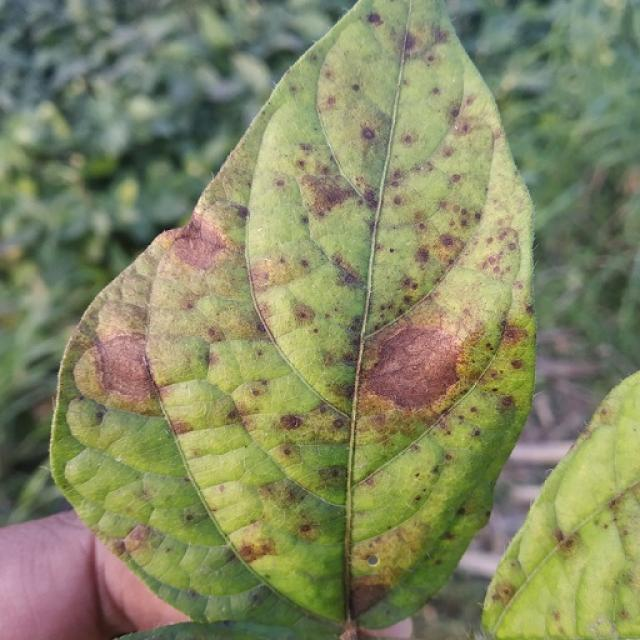Anthracnose: (73, 212, 268, 418), (315, 7, 410, 208), (371, 4, 461, 185), (406, 86, 496, 263), (363, 300, 474, 419), (412, 263, 507, 368), (363, 320, 464, 411), (96, 339, 186, 415), (362, 218, 442, 303), (380, 151, 459, 232), (474, 324, 534, 410), (94, 331, 157, 406), (169, 213, 239, 277), (297, 169, 360, 221), (473, 217, 523, 282), (179, 225, 228, 272), (349, 580, 390, 616), (327, 251, 362, 282), (125, 524, 152, 552), (291, 302, 317, 326), (608, 490, 632, 515), (553, 527, 575, 549), (279, 413, 302, 430), (109, 539, 127, 557), (362, 189, 379, 208), (136, 485, 153, 501), (403, 33, 418, 51), (415, 247, 430, 263), (341, 271, 358, 285), (367, 12, 383, 26), (598, 406, 613, 419), (440, 235, 455, 247), (361, 127, 375, 139), (510, 358, 524, 369), (451, 106, 462, 118), (299, 523, 312, 533), (402, 134, 413, 144), (325, 95, 336, 105), (393, 196, 402, 205), (351, 83, 360, 92)
Blackgram: (146, 0, 538, 631)
